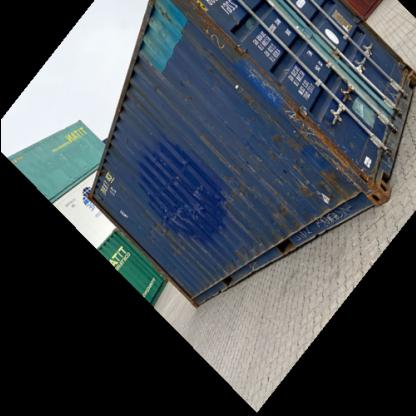Damage: (294, 106, 375, 206), (144, 198, 192, 255), (195, 132, 243, 184), (196, 22, 232, 53), (150, 1, 180, 30), (222, 248, 262, 266), (265, 204, 287, 228)
